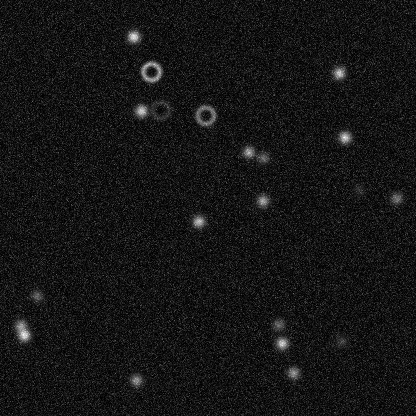Ring: (139, 59, 163, 83), (148, 98, 172, 122), (193, 103, 217, 127)
Spot: (254, 149, 270, 165), (190, 213, 206, 229), (273, 335, 289, 351), (388, 190, 404, 206), (125, 28, 141, 44), (350, 181, 366, 197), (270, 316, 286, 332), (333, 332, 349, 348), (133, 102, 149, 118), (12, 317, 28, 333), (336, 129, 352, 145), (16, 327, 32, 343), (28, 287, 44, 303), (331, 65, 347, 81), (240, 144, 256, 160), (254, 192, 270, 208), (128, 372, 144, 388), (285, 364, 301, 380)
